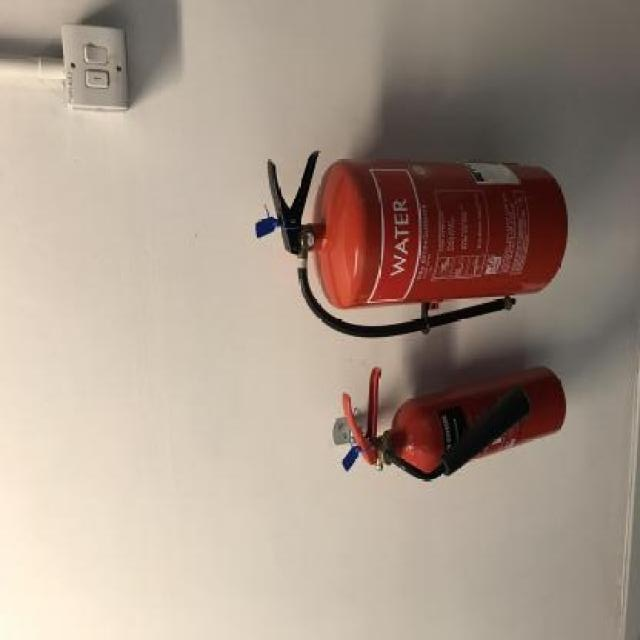fire extinguisher: (256, 149, 569, 337), (342, 365, 567, 481)
